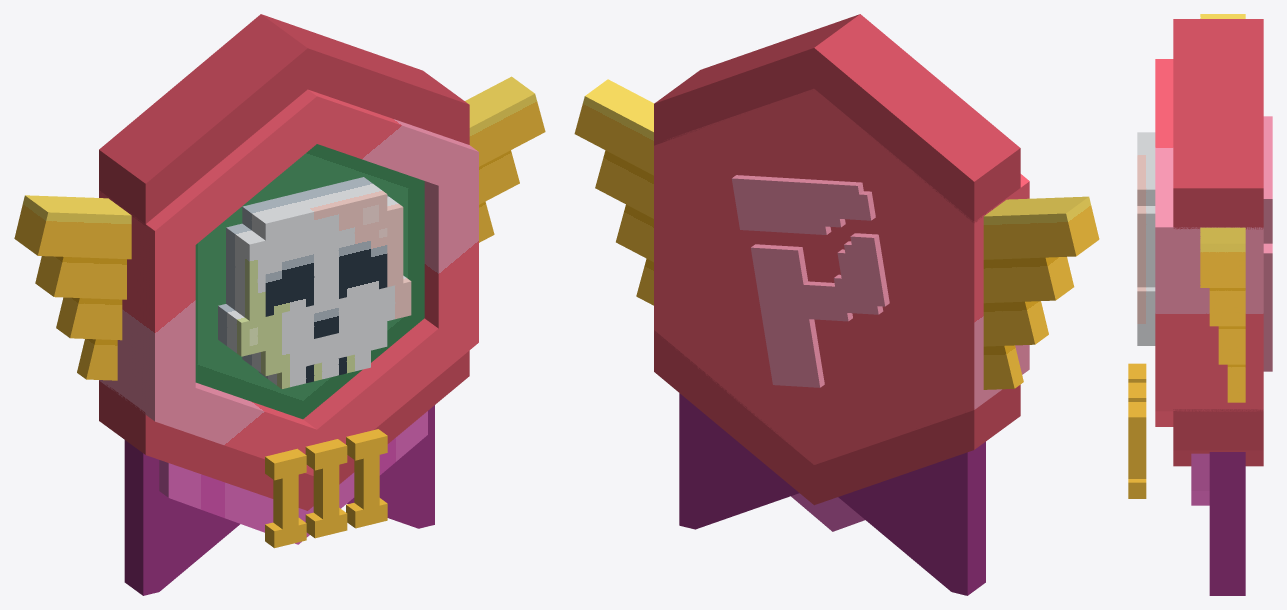
The model's file is pvp_dreadlord.gltf.
3 renders of one model, left to right at view 1: azimuth 30°, elevation 25°; view 2: azimuth 150°, elevation 25°; view 3: azimuth 270°, elevation 25°, orthographic. The views are drawn at different scales.
Parts seen in each view (by area): view 1: cuboid (×9), cylinder, skull; view 2: cuboid (×6), cylinder, p_logo; view 3: cuboid (×9), cylinder, skull, p_logo.
Boxes of the visible parts, x1,y1,x2,y2 form: cuboid (×9): (14,14,545,595); cylinder: (99,89,478,475); skull: (218,177,411,388); cuboid (×6): (574,14,1099,595); cylinder: (654,88,1029,464); p_logo: (731,175,889,387); cuboid (×9): (1128,14,1263,595); cylinder: (1155,59,1263,426); skull: (1137,132,1155,345); p_logo: (1263,116,1272,371).
Size of the model in its own units: 3.92 by 3.88 by 1.
Materials: 3 (3 with a texture image).
